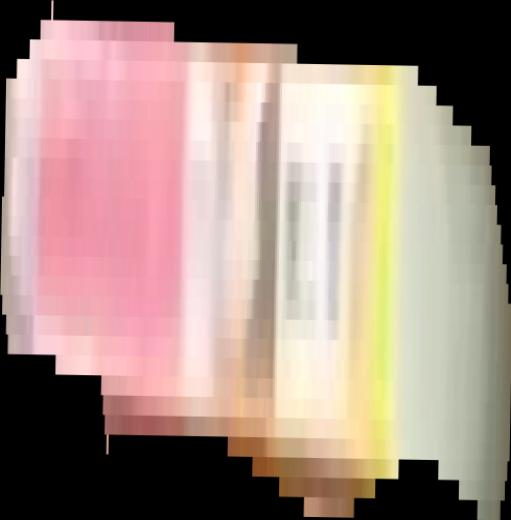flat: (1, 1, 511, 520)
